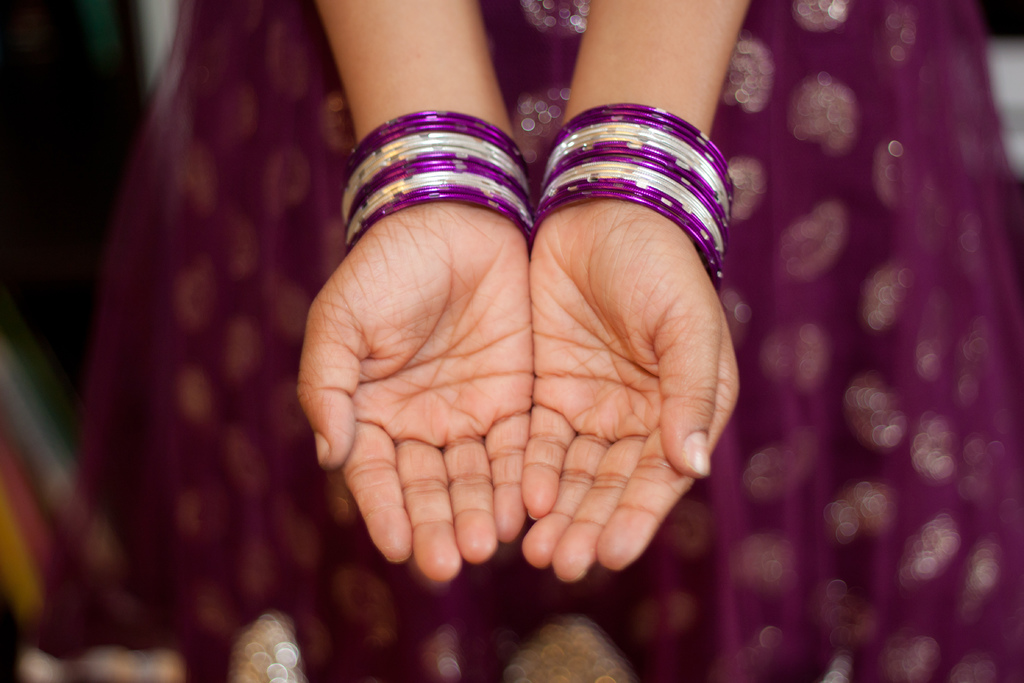Person: (41, 0, 1023, 682)
